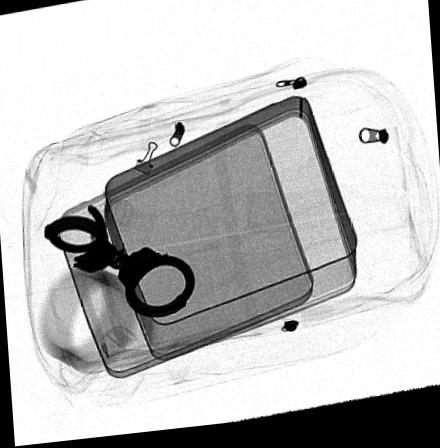HandCuffs: (42, 205, 197, 322)
